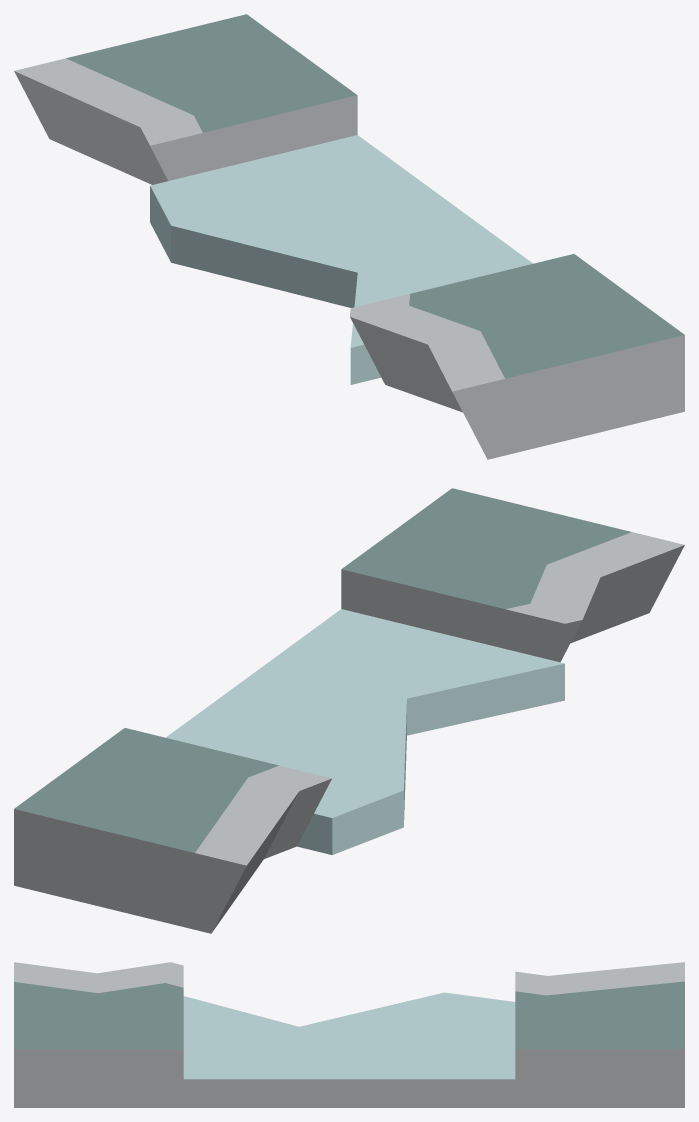
Rendered from Nature River 8.fbx.
The picture shows the model from 3 angles, top to bottom: view 1: azimuth 30°, elevation 25°; view 2: azimuth 150°, elevation 25°; view 3: azimuth 270°, elevation 25°; orthographic projection. The views are drawn at different scales.
Parts seen in each view (by area): view 1: Nature River 8; view 2: Nature River 8; view 3: Nature River 8.
Boxes of the visible parts, x1,y1,x2,y2 form: Nature River 8: (14, 14, 684, 459); Nature River 8: (14, 488, 684, 933); Nature River 8: (14, 962, 684, 1107).
Size of the model in its own units: 0.92 by 0.29 by 3.
